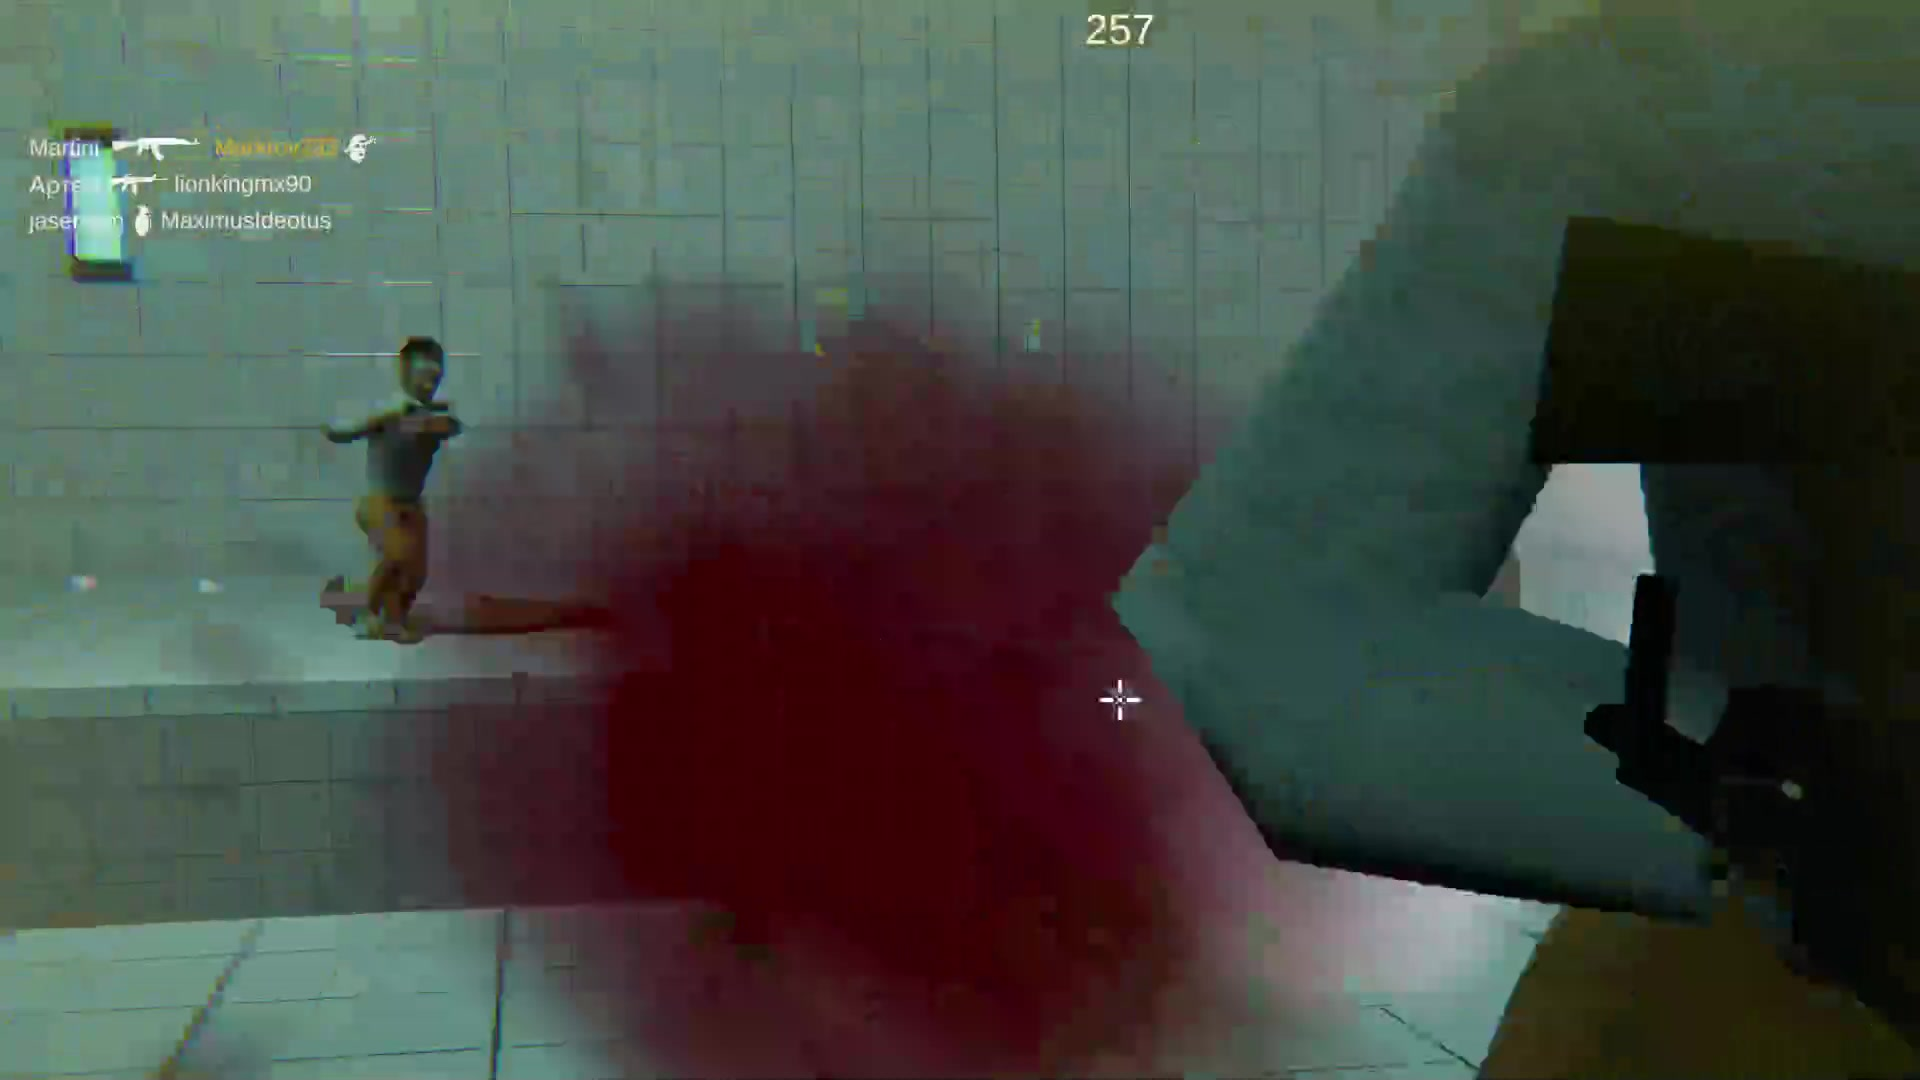human: (374, 338, 437, 635)
